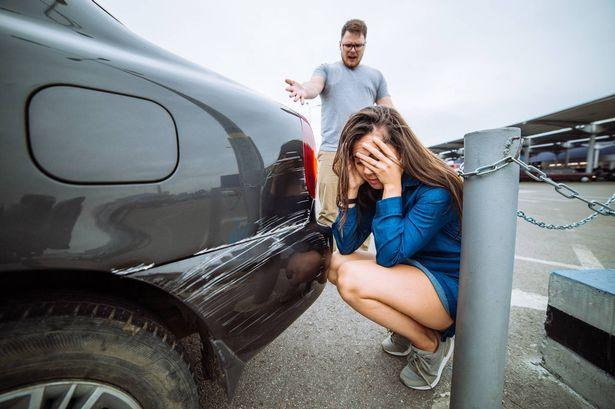scratch: (98, 131, 336, 341)
